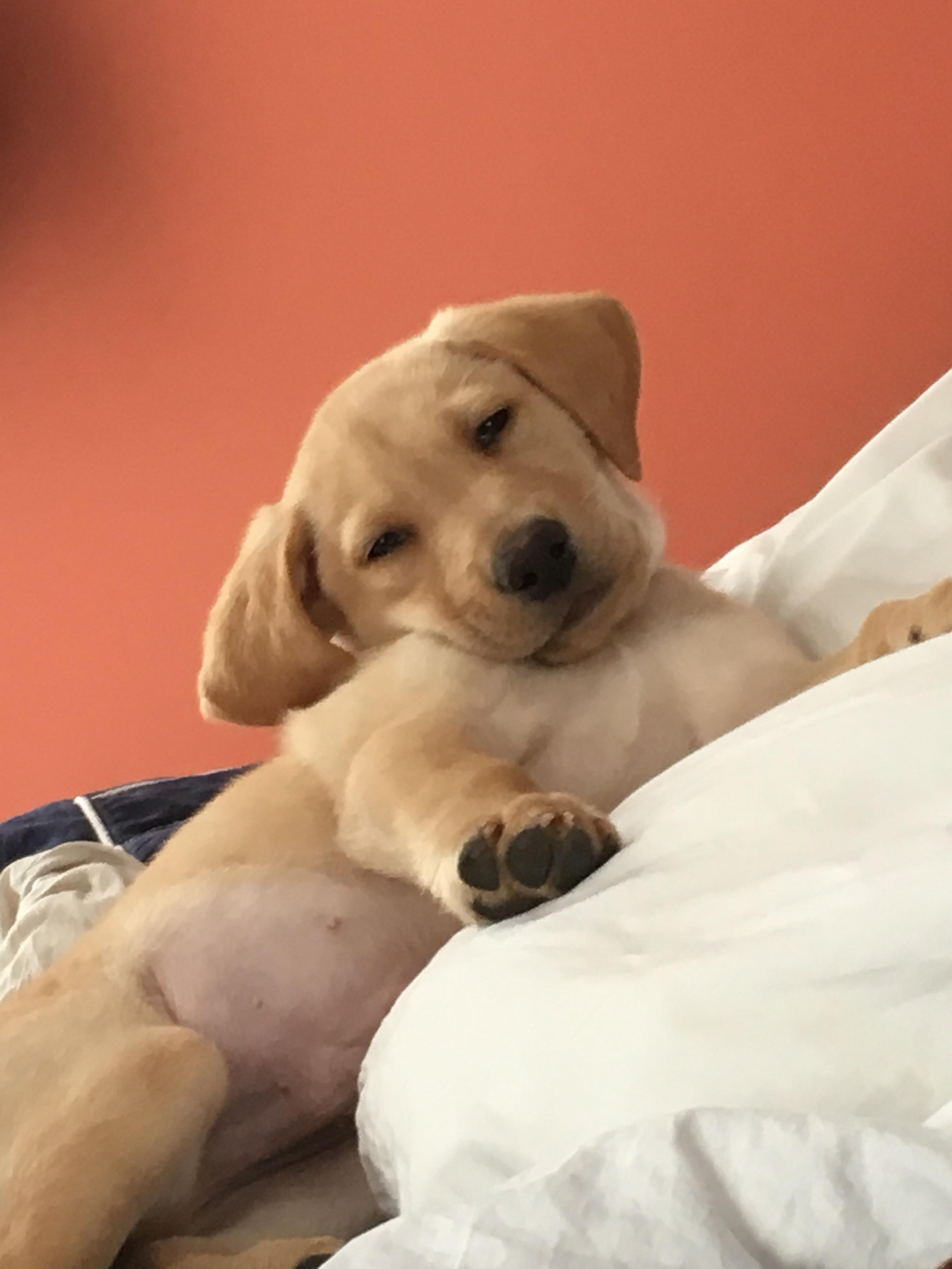puppy-dog: (1, 290, 952, 1269)
